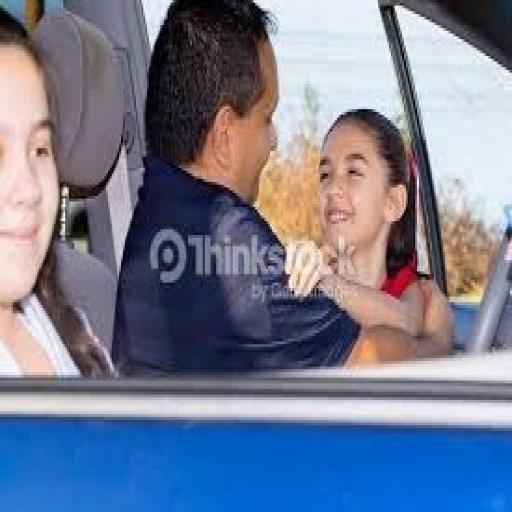hugging: (110, 0, 421, 378), (283, 104, 456, 370), (0, 6, 119, 383)
